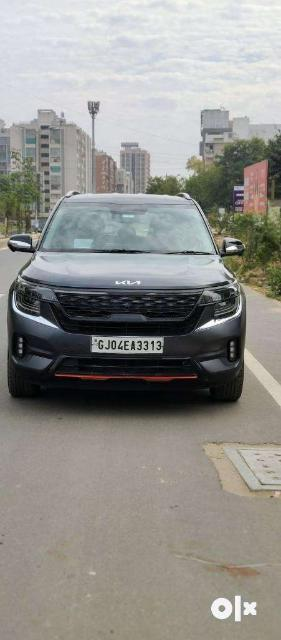Indian_Number_Plate: (92, 336, 164, 354)
